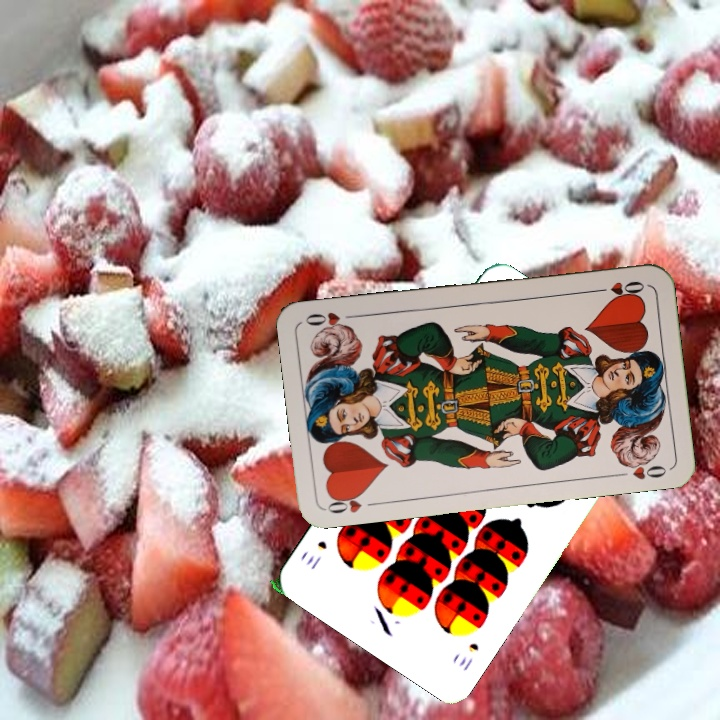HO: (323, 488, 381, 516), (589, 277, 647, 299)
S10: (454, 638, 482, 674)
